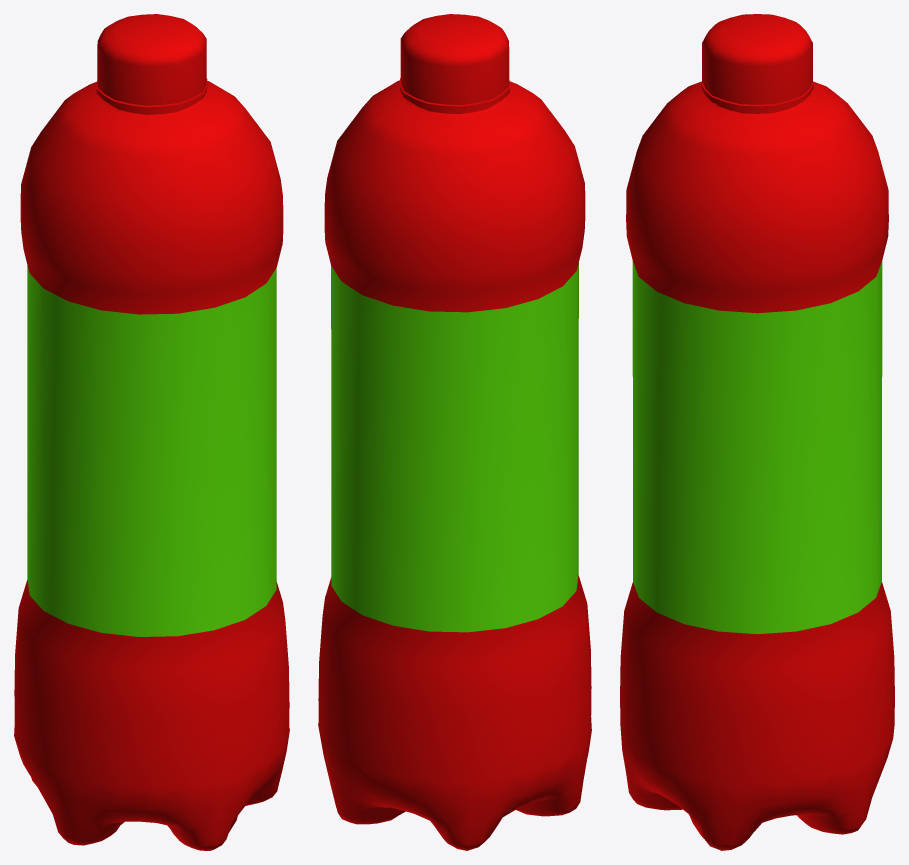
Rendered from fles.fbx.
The picture shows the model from 3 angles, left to right: view 1: azimuth 30°, elevation 25°; view 2: azimuth 150°, elevation 25°; view 3: azimuth 270°, elevation 25°; orthographic projection.
Parts seen in each view (by area): view 1: pCylinder13; view 2: pCylinder13; view 3: pCylinder13.
Part boxes in pixels (bbox=[...]): pCylinder13: bbox=[14, 14, 289, 850]; pCylinder13: bbox=[318, 14, 591, 850]; pCylinder13: bbox=[620, 14, 894, 850].
Bounding box in the file's own units: 1.96 × 6.13 × 1.96.
